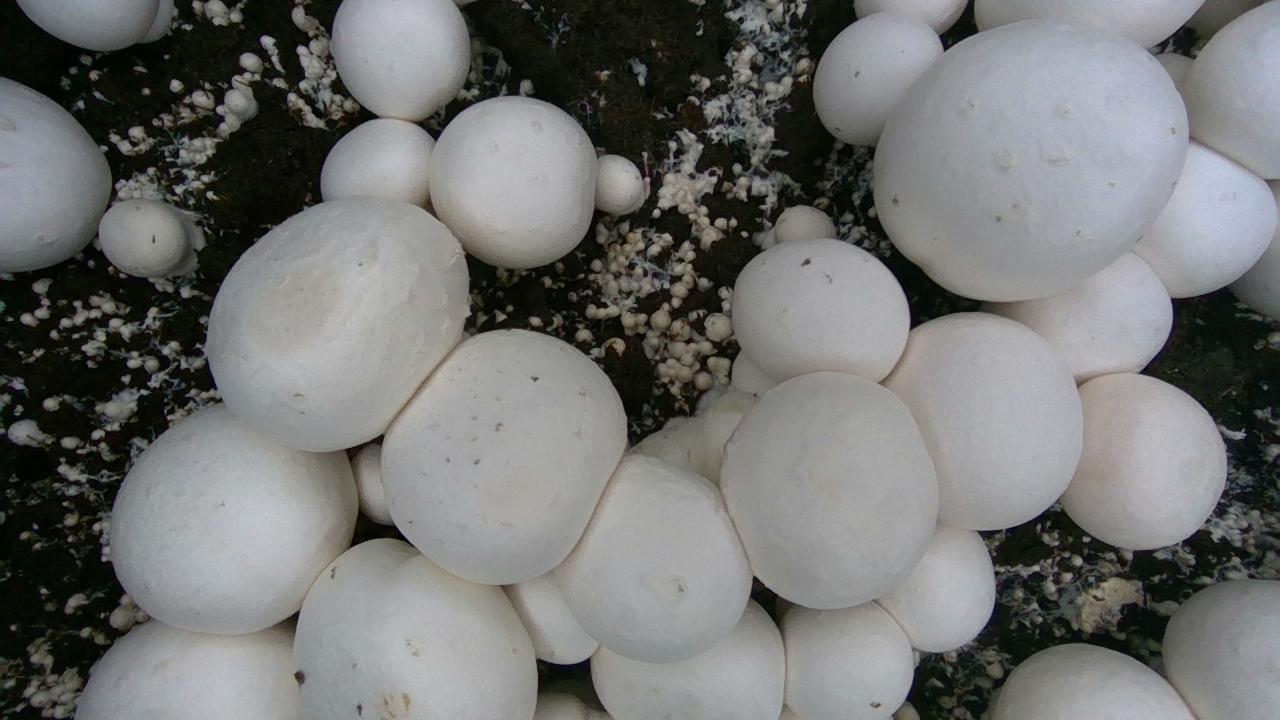WB: (873, 19, 1187, 300), (207, 197, 468, 451), (381, 330, 626, 583), (110, 404, 357, 633), (720, 372, 938, 608), (294, 539, 537, 718), (884, 312, 1082, 529), (554, 454, 751, 662), (1061, 373, 1226, 549), (429, 96, 597, 268), (733, 237, 912, 382), (987, 252, 1172, 383), (591, 600, 785, 719), (75, 620, 301, 719), (1133, 141, 1276, 297), (1182, 0, 1279, 178), (813, 12, 942, 145), (330, 0, 470, 121), (1163, 580, 1279, 718), (781, 602, 913, 719), (991, 643, 1194, 719), (877, 523, 994, 651), (974, 0, 1202, 47), (320, 118, 434, 212), (503, 572, 597, 663), (17, 0, 174, 50), (99, 199, 190, 277), (595, 153, 647, 214), (776, 204, 838, 241)
